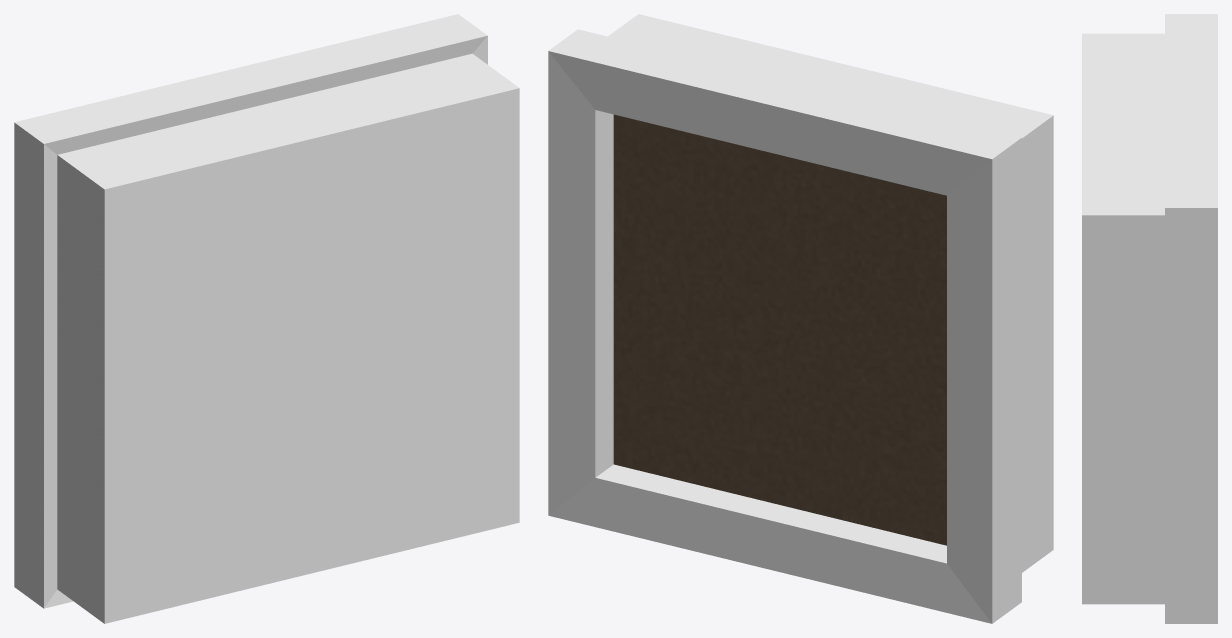
File: venice_road_treebase.fbx
3 renders of one model, left to right at view 1: azimuth 30°, elevation 25°; view 2: azimuth 150°, elevation 25°; view 3: azimuth 270°, elevation 25°, orthographic. The views are drawn at different scales.
Visible parts, largest first — view 1: Cube.300; view 2: Cube.300; view 3: Cube.300.
Boxes of the visible parts, box(x1,y1,x2,y2) form: Cube.300: box(14, 14, 519, 623); Cube.300: box(548, 14, 1053, 623); Cube.300: box(1082, 14, 1217, 623).
Bounding box in the file's own units: 377 × 377 × 112.
